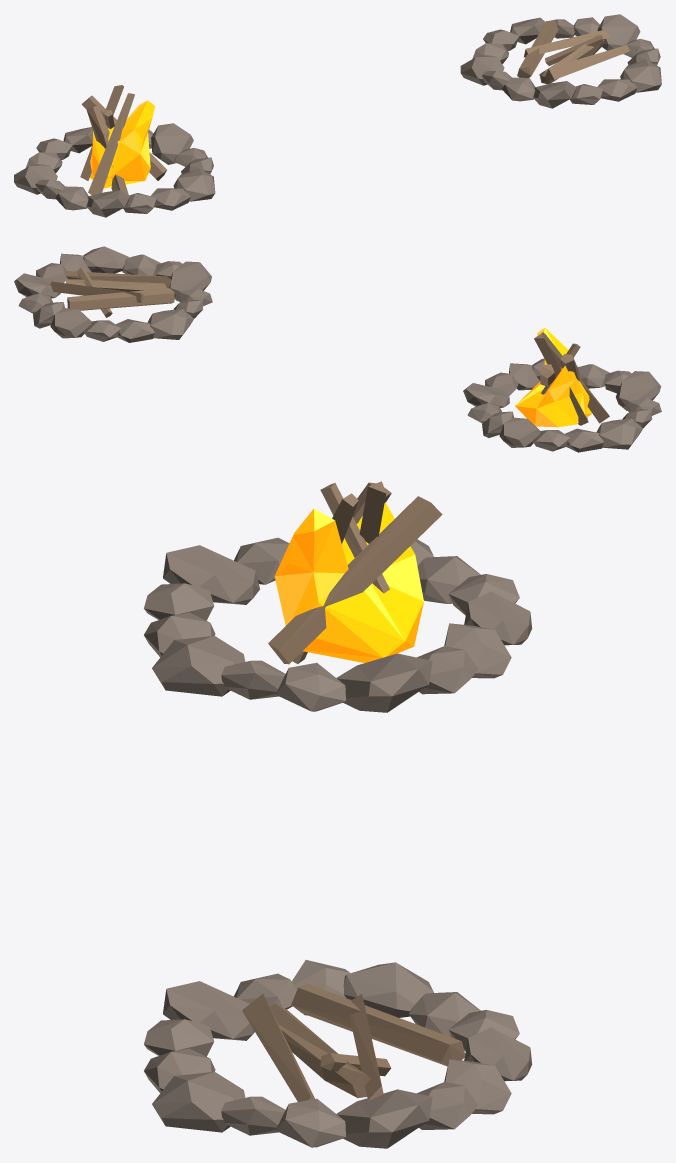
Rendered from fire.fbx.
3 views of the same model, one above another, from view 1: azimuth 30°, elevation 25°; view 2: azimuth 150°, elevation 25°; view 3: azimuth 270°, elevation 25° (orthographic). The views are drawn at different scales.
Visible parts, largest first — view 1: Fire2, Fire2.001; view 2: Fire2, Fire2.001; view 3: Fire2, Fire2.001.
Part boxes in pixels (<box>): Fire2: <box>14,85,215,217</box>; Fire2.001: <box>460,14,661,108</box>; Fire2: <box>463,327,661,452</box>; Fire2.001: <box>14,246,212,342</box>; Fire2: <box>144,481,532,712</box>; Fire2.001: <box>144,960,532,1148</box>.
Bounding box in the file's own units: 1023 × 155 × 278.
